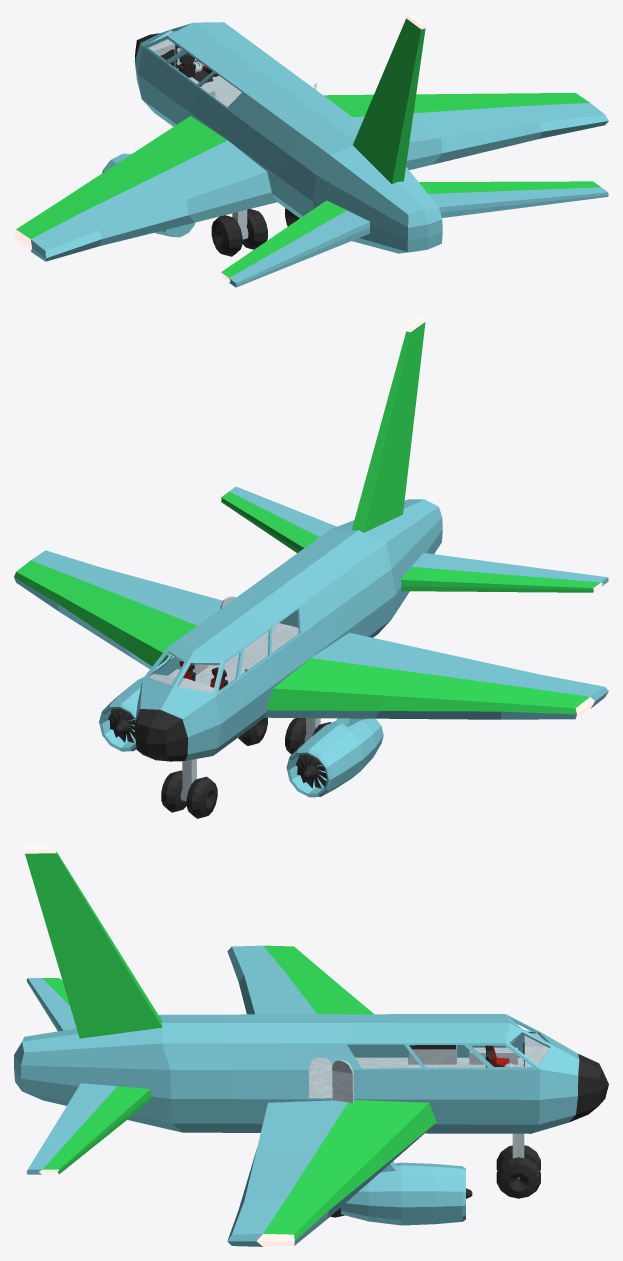
Rendered from full_model.glb.
3 renders of one model, top to bottom at view 1: azimuth 30°, elevation 25°; view 2: azimuth 150°, elevation 25°; view 3: azimuth 270°, elevation 25°, orthographic. The views are drawn at different scales.
Parts seen in each view (by area): view 1: Tail, BackAftCorePanel.L, SidePanel7Tail.L, BackAftMidPanel.R, BackAftMidPanel.L, TailBackPanel.L, TailBackPanel.R, ForwardAftCorePanel., SidePanel6.L, SidePanel5.L, ForwardAftMidPanel.L, TailForwardPanel.L (+35 smaller); view 2: Tail, ForwardAftCorePanel., Turbine.L, ForwardAftMidPanel.L, TailForwardPanel.L, ForwardAftMidPanel.R, BackAftCorePanel.L, SidePanel7Tail.L, SidePanel6.L, Floor, ForwardAftCorePanel.R, BackAftMidPanel.L (+39 smaller); view 3: Tail, SidePanel7Tail.R, Turbine.R, SidePanel6.R, ForwardAftCorePanel.R, SidePanel5.R, SideWindow2.R, Floor, ForwardAftMidPanel.R, BackAftCorePanel.R, SideWindow1.R, TailForwardPanel.R (+33 smaller).
Boxes of the visible parts, box(x1,y1,x2,y2) form: Tail: box(353, 18, 425, 183); BackAftCorePanel.L: box(156, 140, 271, 214); SidePanel7Tail.L: box(313, 155, 408, 251); BackAftMidPanel.R: box(413, 106, 542, 152); BackAftMidPanel.L: box(80, 175, 188, 238); TailBackPanel.L: box(229, 210, 370, 287); TailBackPanel.R: box(428, 187, 608, 217); ForwardAftCorePanel.: box(128, 116, 227, 175); SidePanel6.L: box(283, 134, 330, 215); SidePanel5.L: box(253, 113, 300, 203); ForwardAftMidPanel.L: box(60, 157, 155, 213); TailForwardPanel.L: box(221, 200, 346, 277); Tail: box(352, 322, 425, 532); ForwardAftCorePanel.: box(266, 658, 410, 710); Turbine.L: box(286, 718, 383, 797); ForwardAftMidPanel.L: box(380, 672, 519, 711); TailForwardPanel.L: box(401, 567, 600, 592); ForwardAftMidPanel.R: box(57, 579, 155, 648); BackAftCorePanel.L: box(311, 632, 440, 671); SidePanel7Tail.L: box(386, 507, 442, 618); SidePanel6.L: box(357, 543, 395, 636); Floor: box(149, 623, 298, 692); ForwardAftCorePanel.R: box(125, 609, 196, 666); BackAftMidPanel.L: box(412, 653, 538, 686); Tail: box(25, 851, 162, 1038); SidePanel7Tail.R: box(21, 1043, 171, 1123); Turbine.R: box(341, 1162, 465, 1225); SidePanel6.R: box(162, 1043, 232, 1123); ForwardAftCorePanel.R: box(319, 1100, 436, 1164); SidePanel5.R: box(223, 1043, 296, 1123); SideWindow2.R: box(405, 1043, 492, 1124); Floor: box(309, 1033, 549, 1098); ForwardAftMidPanel.R: box(286, 1148, 384, 1209); BackAftCorePanel.R: box(254, 1100, 347, 1156); SideWindow1.R: box(465, 1043, 540, 1124); TailForwardPanel.R: box(42, 1086, 151, 1174).
Size of what is drawn, in the model's own units: 60.03 by 33.19 by 52.02.
9 materials, 3 textured.
